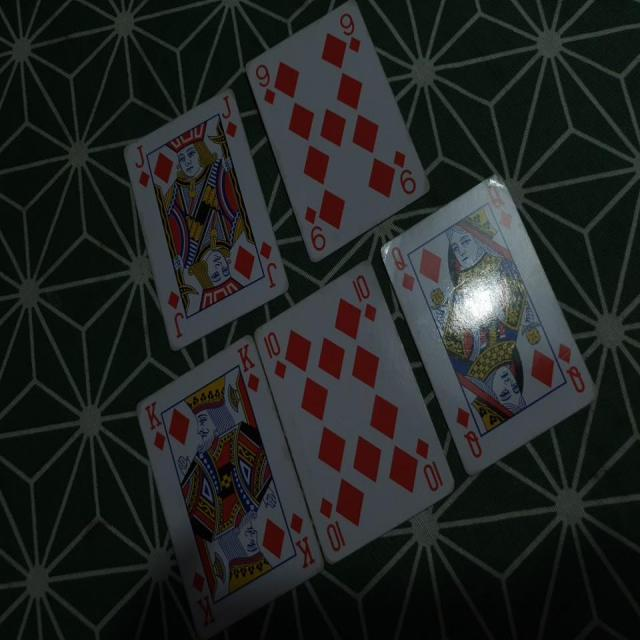10 Diamonds: (252, 257, 455, 566)
9 Diamonds: (245, 1, 429, 260)
J Diamonds: (123, 89, 290, 350)
K Diamonds: (136, 333, 324, 631)
Q Diamonds: (378, 169, 600, 478)
